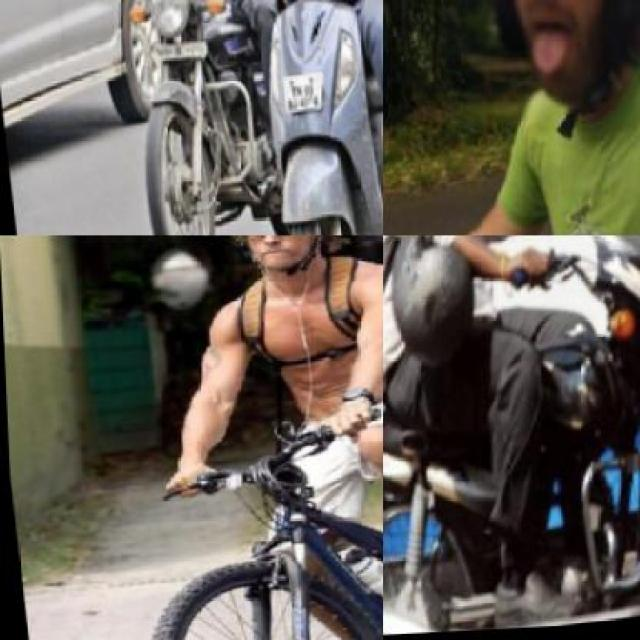With Helmet: (432, 0, 638, 131), (217, 235, 348, 294)
